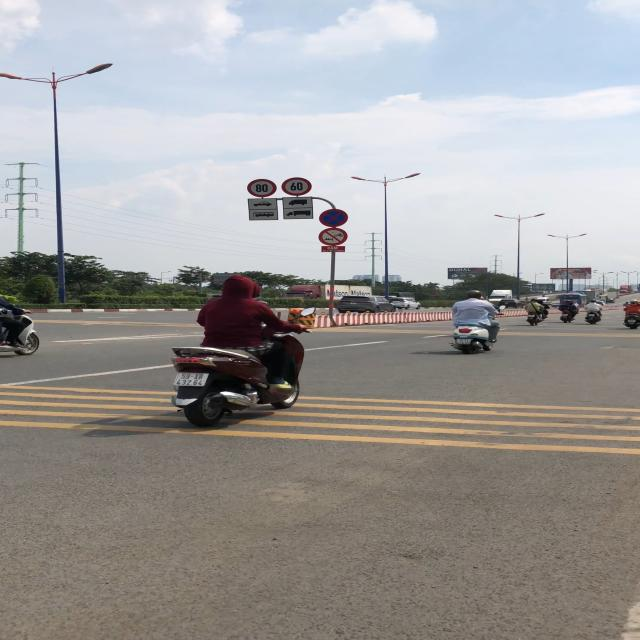Bien bao cam dung xe va do xe: (318, 207, 352, 227)
Bien bao toc do toi da cho phep: (280, 176, 312, 196), (248, 178, 277, 198)
